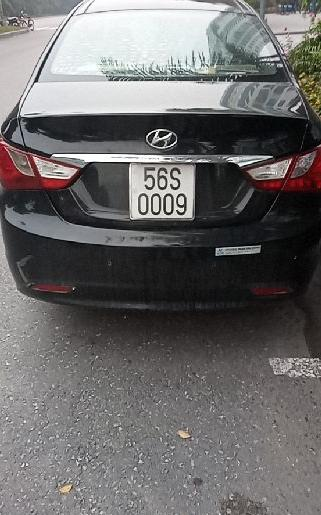Plate-iWeP: (128, 156, 197, 221)
